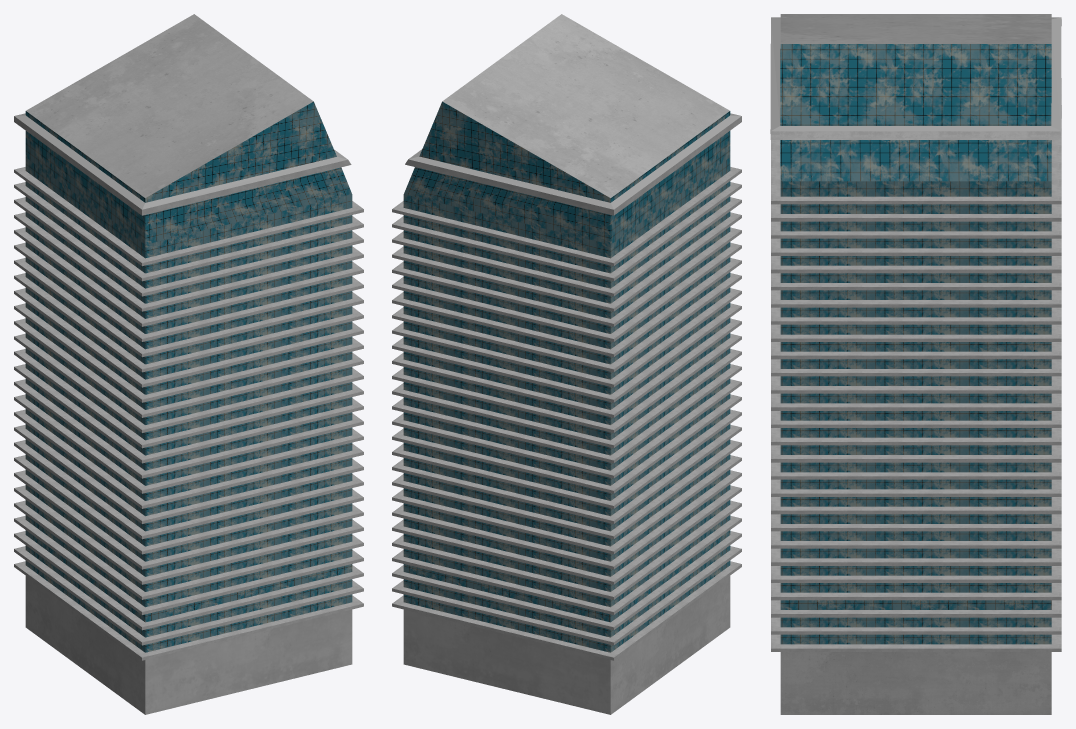
File: SkyScraper_2.fbx
3 views of the same model, side by side, from view 1: azimuth 30°, elevation 25°; view 2: azimuth 150°, elevation 25°; view 3: azimuth 270°, elevation 25° (orthographic). The views are drawn at different scales.
Parts seen in each view (by area): view 1: SkyScraper_2; view 2: SkyScraper_2; view 3: SkyScraper_2.
Boxes of the visible parts, <box> form: SkyScraper_2: <box>14,14,363,714</box>; SkyScraper_2: <box>392,14,741,714</box>; SkyScraper_2: <box>770,14,1061,714</box>.
Bounding box in the file's own units: 75 × 185 × 75.11.
